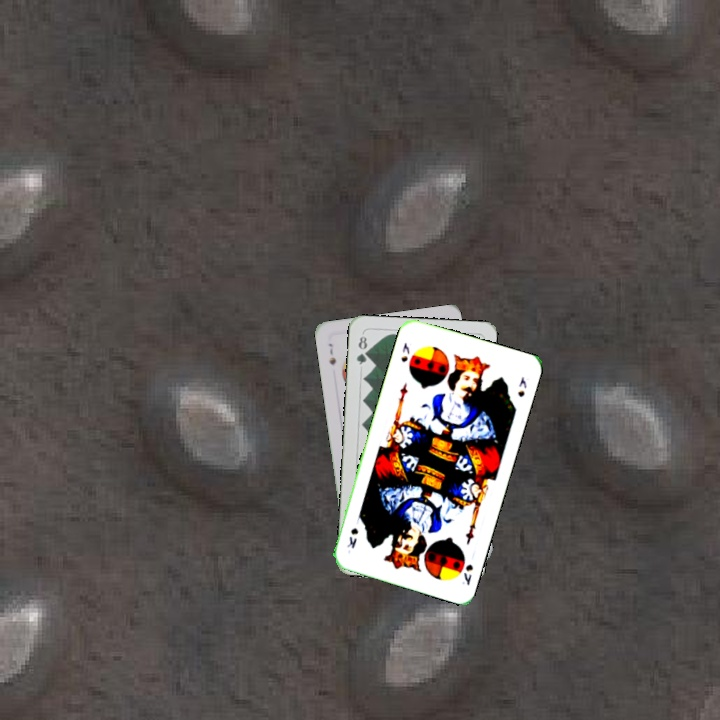G8: (352, 330, 370, 367)
S7: (324, 339, 338, 368)
SK: (458, 560, 476, 588), (397, 339, 412, 365)
